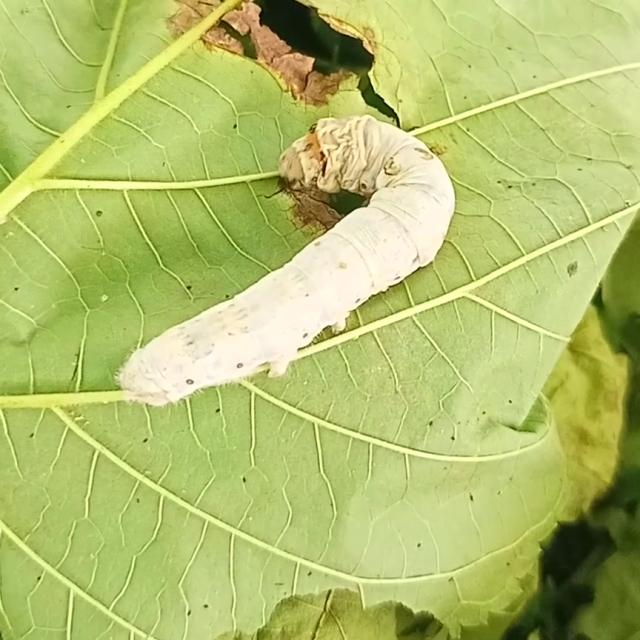Grasserie: (98, 77, 506, 462)
